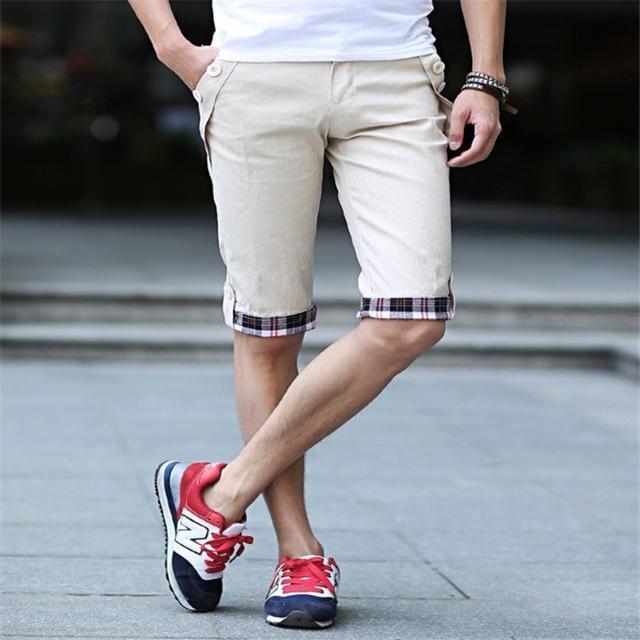shorts: (171, 27, 544, 360)
